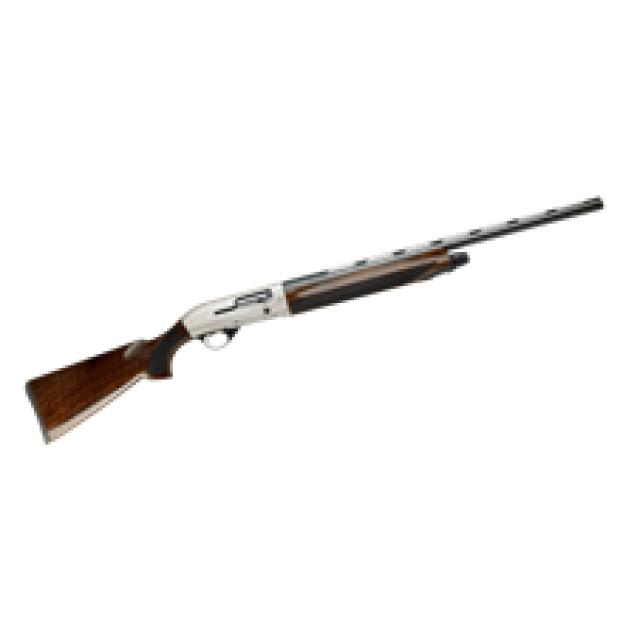rifle: (20, 181, 611, 454)
